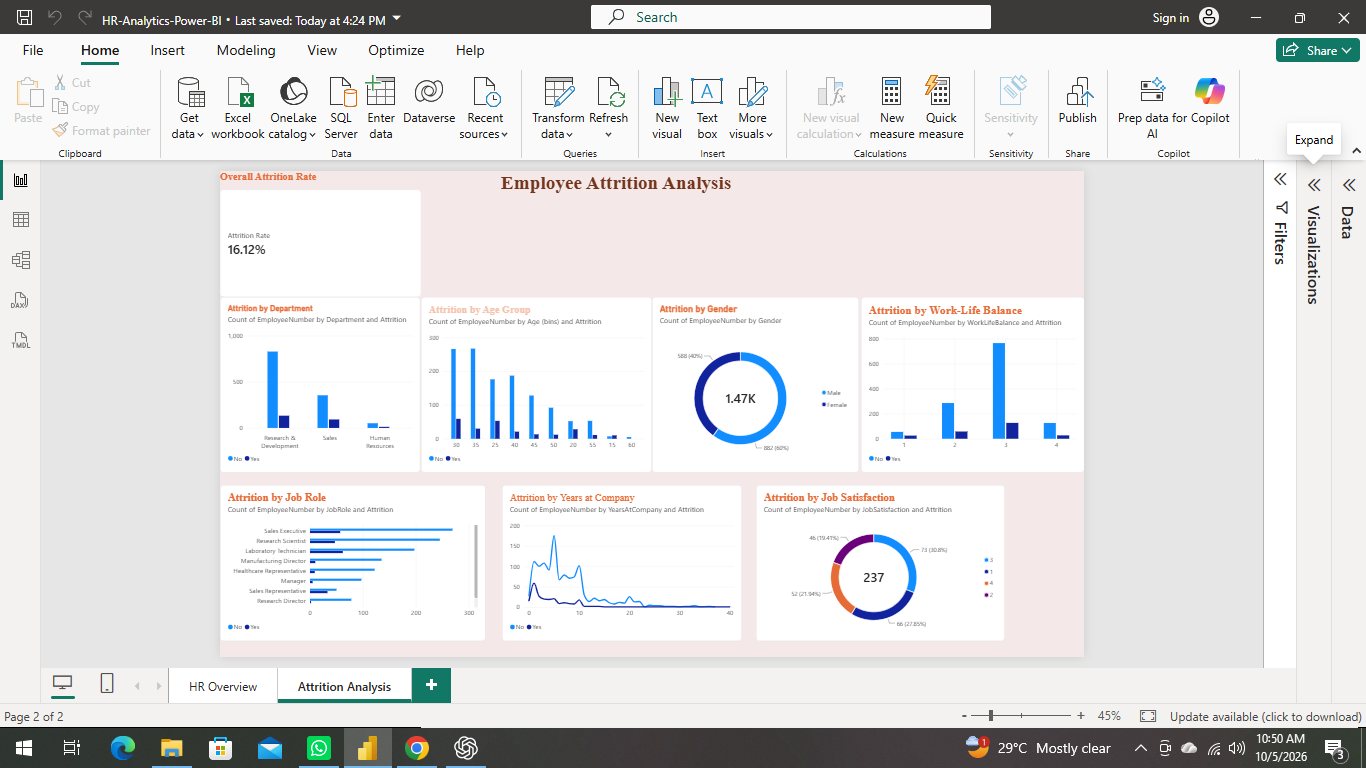

The page's visual inventory and layout, read from the dashboard file:
{"tool":"powerbi","page":{"name":"Attrition Analysis","canvas":[1920,1080],"ordinal":1},"visuals":[{"type":"textbox","box":[625,0,870,280],"z":0},{"type":"clusteredColumnChart","title":"Attrition by Department","fields":{"Category":["WA_Fn-UseC_-HR-Employee-Attrition.Department"],"Series":["WA_Fn-UseC_-HR-Employee-Attrition.Attrition"],"Y":["CountNonNull(WA_Fn-UseC_-HR-Employee-Attrition.EmployeeNumber)"]},"box":[0,280,445,390],"z":1},{"type":"donutChart","title":"Attrition by Gender","fields":{"Category":["WA_Fn-UseC_-HR-Employee-Attrition.Gender"],"Y":["CountNonNull(WA_Fn-UseC_-HR-Employee-Attrition.EmployeeNumber)"]},"box":[960,280,460,390],"z":2},{"type":"clusteredBarChart","title":"Attrition by Job Role","fields":{"Category":["WA_Fn-UseC_-HR-Employee-Attrition.JobRole"],"Series":["WA_Fn-UseC_-HR-Employee-Attrition.Attrition"],"Y":["CountNonNull(WA_Fn-UseC_-HR-Employee-Attrition.EmployeeNumber)"]},"box":[0,696.7,590,346.7],"z":3},{"type":"clusteredColumnChart","title":"Attrition by Age Group","fields":{"Category":["WA_Fn-UseC_-HR-Employee-Attrition.Age (bins)"],"Series":["WA_Fn-UseC_-HR-Employee-Attrition.Attrition"],"Y":["CountNonNull(WA_Fn-UseC_-HR-Employee-Attrition.EmployeeNumber)"]},"box":[446.7,280,513.3,390],"z":4},{"type":"cardVisual","title":"Overall Attrition Rate","fields":{"Data":["WA_Fn-UseC_-HR-Employee-Attrition.Attrition Rate"]},"box":[0,0,447.1,280],"z":5},{"type":"lineChart","title":"Attrition by Years at Company","fields":{"Category":["WA_Fn-UseC_-HR-Employee-Attrition.YearsAtCompany"],"Series":["WA_Fn-UseC_-HR-Employee-Attrition.Attrition"],"Y":["CountNonNull(WA_Fn-UseC_-HR-Employee-Attrition.EmployeeNumber)"]},"box":[626.7,696.7,533.3,346.7],"z":6},{"type":"donutChart","title":"Attrition by Job Satisfaction","fields":{"Category":["WA_Fn-UseC_-HR-Employee-Attrition.JobSatisfaction"],"Series":["WA_Fn-UseC_-HR-Employee-Attrition.Attrition"],"Y":["CountNonNull(WA_Fn-UseC_-HR-Employee-Attrition.EmployeeNumber)"]},"box":[1190,696.7,553.3,346.7],"z":7},{"type":"clusteredColumnChart","title":"Attrition by Work-Life Balance","fields":{"Category":["WA_Fn-UseC_-HR-Employee-Attrition.WorkLifeBalance"],"Series":["WA_Fn-UseC_-HR-Employee-Attrition.Attrition"],"Y":["CountNonNull(WA_Fn-UseC_-HR-Employee-Attrition.EmployeeNumber)"]},"box":[1423.3,280,496.7,390],"z":8}]}

Visuals, with their boxes on the page's 1920x1080 design canvas (x1, y1, x2, y2). These are canvas units, not pixel positions in the 1366x768 screenshot, which may show the page scaled, cropped or inside an application window:
textbox: 625,0,1495,280
"Attrition by Department" clusteredColumnChart: 0,280,445,670
"Attrition by Gender" donutChart: 960,280,1420,670
"Attrition by Job Role" clusteredBarChart: 0,697,590,1043
"Attrition by Age Group" clusteredColumnChart: 447,280,960,670
"Overall Attrition Rate" cardVisual: 0,0,447,280
"Attrition by Years at Company" lineChart: 627,697,1160,1043
"Attrition by Job Satisfaction" donutChart: 1190,697,1743,1043
"Attrition by Work-Life Balance" clusteredColumnChart: 1423,280,1920,670
